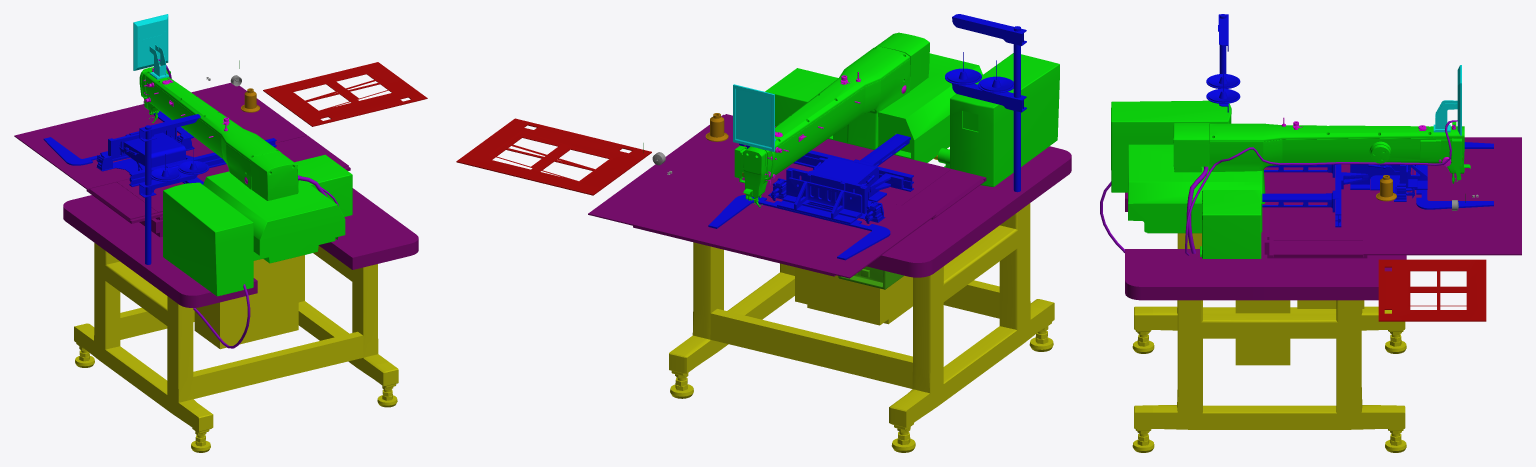
File: Machine027.fbx
The picture shows the model from 3 angles, left to right: view 1: azimuth 30°, elevation 25°; view 2: azimuth 150°, elevation 25°; view 3: azimuth 270°, elevation 25°; orthographic projection. The views are drawn at different scales.
Visible parts, largest first — view 1: polySurface277, pCube5, polySurface199, Ups1, polySurface147, pCube20, polySurface188, pCube89, pCube103, pCube91, polySurface222, polySurface213 (+8 smaller); view 2: polySurface277, polySurface199, Ups1, pCube5, polySurface188, pCube89, polySurface147, polySurface213, pCube20, pCube91, polySurface261, pCube103 (+8 smaller); view 3: polySurface277, polySurface199, pCube5, pCube89, polySurface147, polySurface213, Ups1, polySurface188, pCube9, polySurface222, pCube20, pCube104 (+11 smaller).
Boxes of the visible parts, bbox=[...] form: polySurface277: bbox=[74, 243, 398, 433]; pCube5: bbox=[63, 188, 418, 307]; polySurface199: bbox=[14, 82, 307, 189]; Ups1: bbox=[163, 182, 253, 296]; polySurface147: bbox=[203, 171, 345, 255]; pCube20: bbox=[194, 256, 298, 349]; polySurface188: bbox=[263, 62, 427, 126]; pCube89: bbox=[88, 135, 348, 221]; pCube103: bbox=[96, 127, 194, 172]; pCube91: bbox=[139, 114, 208, 264]; polySurface222: bbox=[155, 77, 281, 161]; polySurface213: bbox=[144, 70, 251, 189]; polySurface277: bbox=[669, 203, 1054, 430]; polySurface199: bbox=[588, 150, 936, 278]; Ups1: bbox=[950, 53, 1059, 186]; pCube5: bbox=[866, 146, 1071, 277]; polySurface188: bbox=[456, 118, 651, 195]; pCube89: bbox=[675, 114, 983, 216]; polySurface147: bbox=[828, 53, 982, 162]; polySurface213: bbox=[750, 59, 909, 183]; pCube20: bbox=[795, 267, 912, 325]; pCube91: bbox=[945, 14, 1026, 192]; polySurface261: bbox=[708, 177, 890, 260]; pCube103: bbox=[768, 156, 903, 222]; polySurface277: bbox=[1134, 233, 1405, 430]; polySurface199: bbox=[1363, 137, 1521, 255]; pCube5: bbox=[1125, 169, 1406, 300]; pCube89: bbox=[1273, 164, 1362, 257]; polySurface147: bbox=[1128, 144, 1262, 232]; polySurface213: bbox=[1209, 126, 1456, 203]; Ups1: bbox=[1111, 100, 1231, 192]; polySurface188: bbox=[1378, 259, 1486, 321]; pCube9: bbox=[1202, 190, 1261, 258]; polySurface222: bbox=[1209, 123, 1433, 141]; pCube20: bbox=[1235, 300, 1364, 365]; pCube104: bbox=[1262, 164, 1341, 227].
Size of the model in its own units: 5.84 by 4.69 by 5.49.
